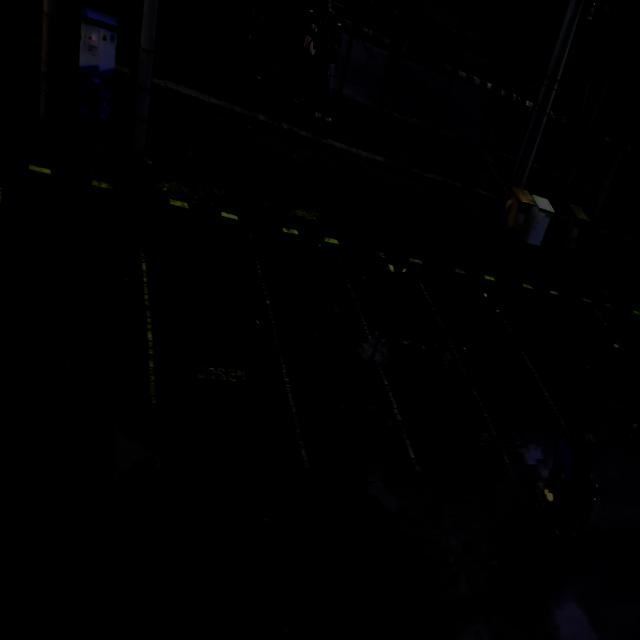empty: (0, 164, 157, 489), (146, 196, 285, 473), (277, 221, 378, 476), (374, 247, 466, 475), (457, 268, 532, 462), (528, 278, 599, 462)
